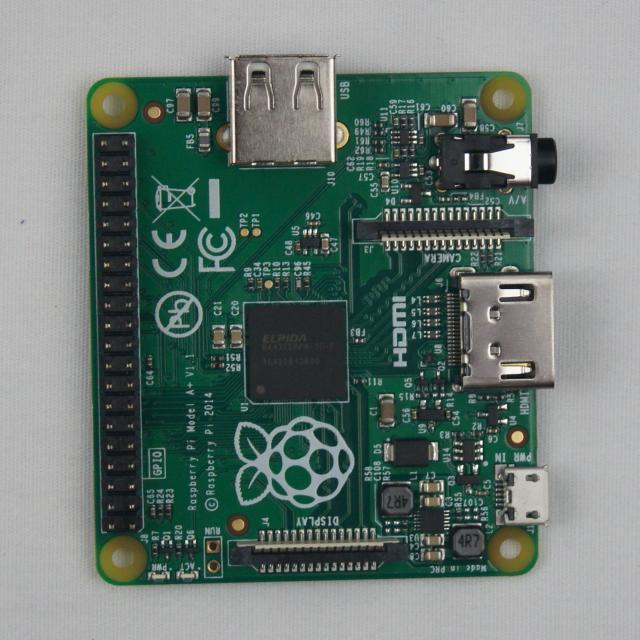Raspberry-Pi-1-A-: (88, 56, 557, 586)
